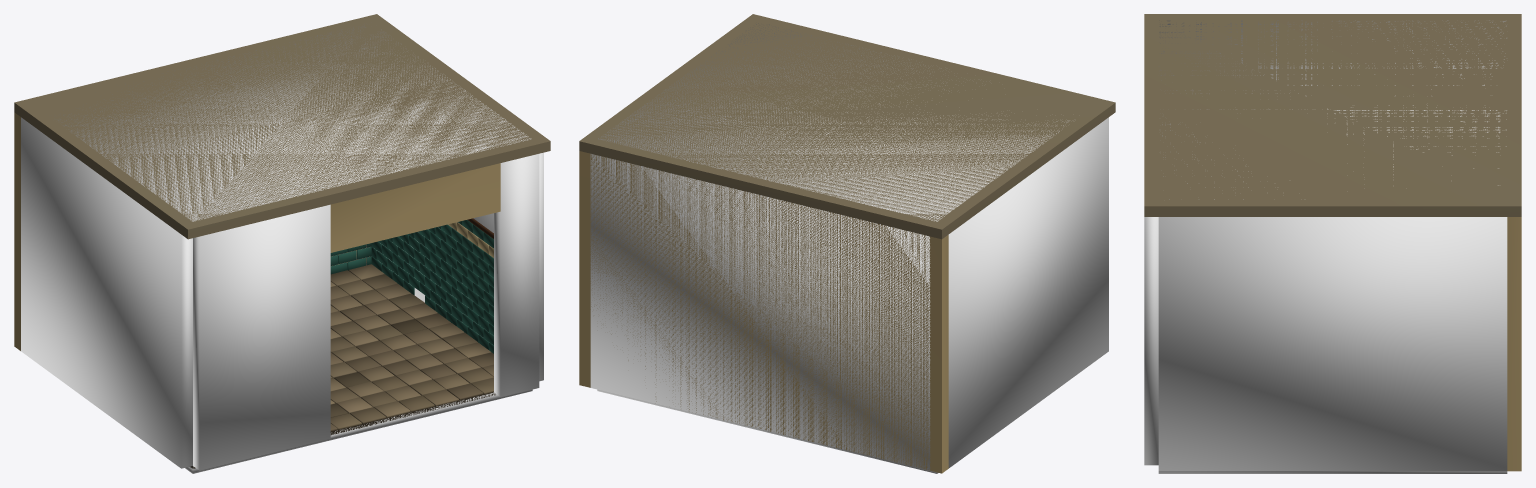
File: deposito_sala.glb
The picture shows the model from 3 angles, left to right: view 1: azimuth 30°, elevation 25°; view 2: azimuth 150°, elevation 25°; view 3: azimuth 270°, elevation 25°; orthographic projection. The views are drawn at different scales.
Visible parts, largest first — view 1: muros, izquierda-colcaja, techo-colcaja, frente_izq-colcaja, suelo, frente_der-colcaja, azulejos, suelo-colcaja, derecha-colcaja; view 2: muros, fondo-colcaja, izquierda-colcaja, techo-colcaja, suelo-colcaja; view 3: derecha-colcaja, muros, frente_der-colcaja, techo-colcaja, suelo-colcaja.
Boxes of the visible parts, x1=… form: muros: x1=14, y1=14, x2=550, y2=350; izquierda-colcaja: x1=21, y1=117, x2=192, y2=468; techo-colcaja: x1=58, y1=25, x2=531, y2=221; frente_izq-colcaja: x1=193, y1=204, x2=330, y2=470; suelo: x1=190, y1=264, x2=495, y2=468; frente_der-colcaja: x1=494, y1=154, x2=539, y2=397; azulejos: x1=330, y1=220, x2=493, y2=353; suelo-colcaja: x1=185, y1=389, x2=532, y2=473; derecha-colcaja: x1=389, y1=152, x2=543, y2=381; muros: x1=579, y1=14, x2=1115, y2=473; fondo-colcaja: x1=590, y1=154, x2=930, y2=470; izquierda-colcaja: x1=948, y1=117, x2=1108, y2=468; techo-colcaja: x1=598, y1=23, x2=1069, y2=221; suelo-colcaja: x1=597, y1=389, x2=938, y2=473; derecha-colcaja: x1=1158, y1=217, x2=1507, y2=471; muros: x1=1144, y1=14, x2=1521, y2=471; frente_der-colcaja: x1=1144, y1=217, x2=1158, y2=465; techo-colcaja: x1=1159, y1=20, x2=1506, y2=199; suelo-colcaja: x1=1158, y1=471, x2=1507, y2=473.
Size of the model in its own units: 4.7 by 3.12 by 3.9.
